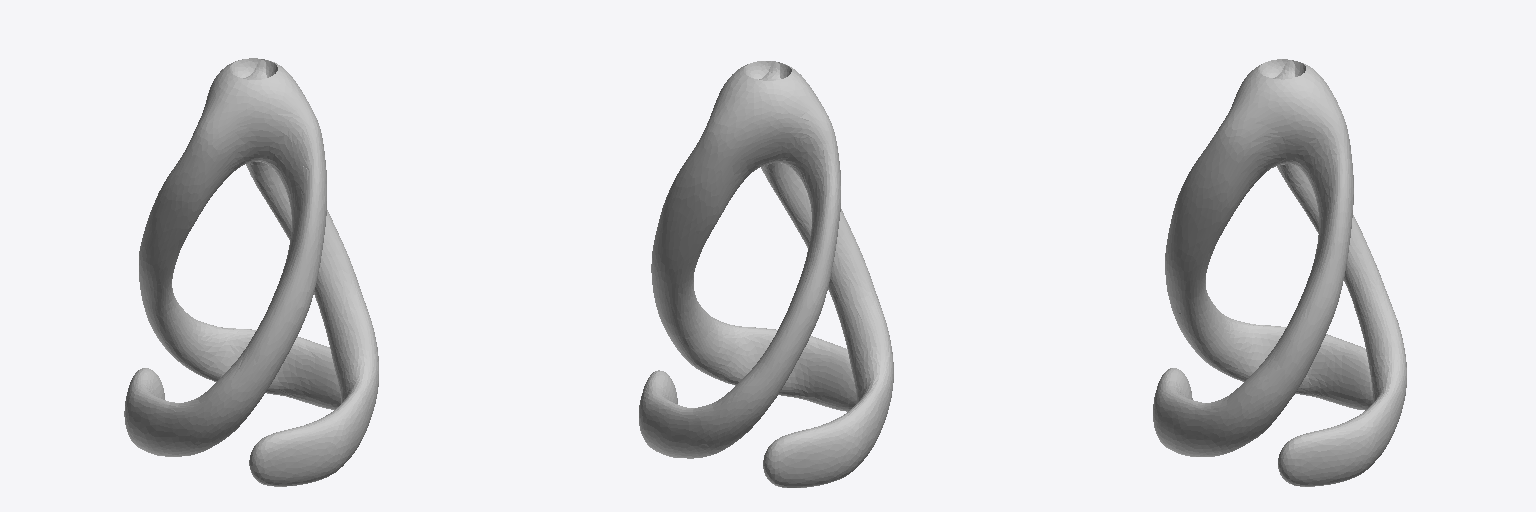
The model's file is mover-with-cradle.obj.
The picture shows the model from 3 angles: view 1: azimuth 30°, elevation 25°; view 2: azimuth 150°, elevation 25°; view 3: azimuth 270°, elevation 25°; orthographic projection.
Visible parts, largest first — view 1: Quad_Sphere; view 2: Quad_Sphere; view 3: Quad_Sphere.
Boxes of the visible parts, x1,y1,x2,y2 form: Quad_Sphere: [124, 58, 378, 486]; Quad_Sphere: [639, 61, 893, 487]; Quad_Sphere: [1153, 59, 1406, 486].
Size of the model in its own units: 3.7 by 5.98 by 3.69.